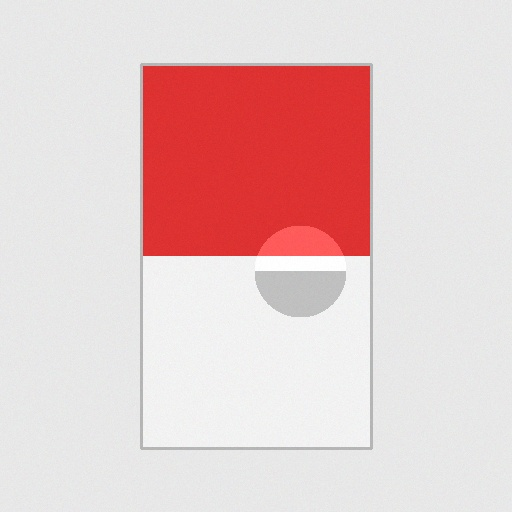deformation: (249, 220, 351, 322)
